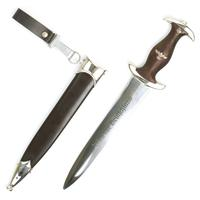knife: (61, 16, 189, 192)
